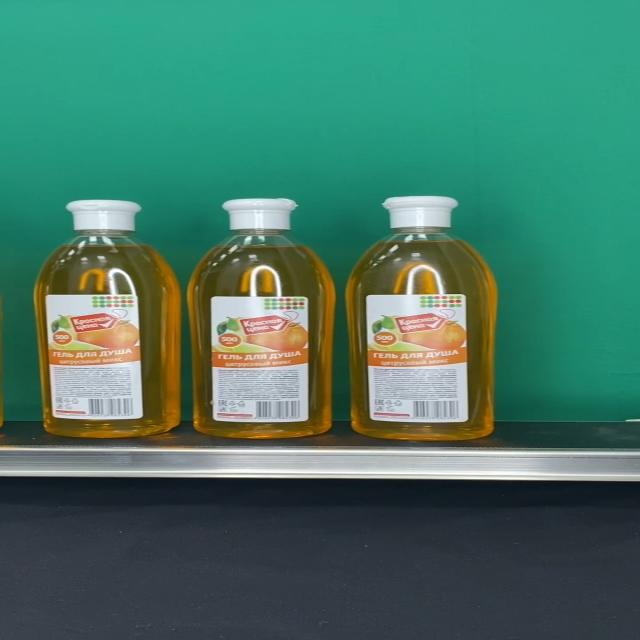Bottle: (346, 196, 497, 441), (188, 198, 336, 439), (34, 199, 182, 437)
Cap: (381, 196, 458, 229), (220, 198, 298, 230), (66, 199, 141, 231)
